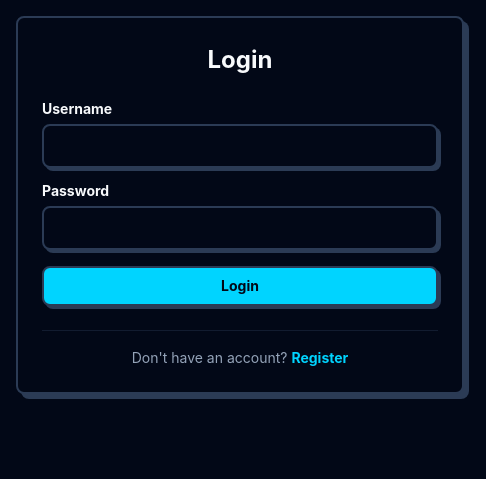
Scenario: LoginPage › renders backend error using ErrorMessage when login fails
In the field with test id "username-input": {"x": 240, "y": 146} [42,124,438,168], type "wronguser"
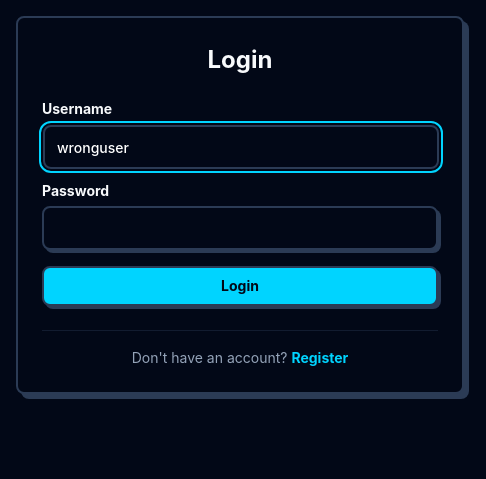
In the password field with test id "password-input": {"x": 240, "y": 228} [42,206,438,250], type "wrongpassword"
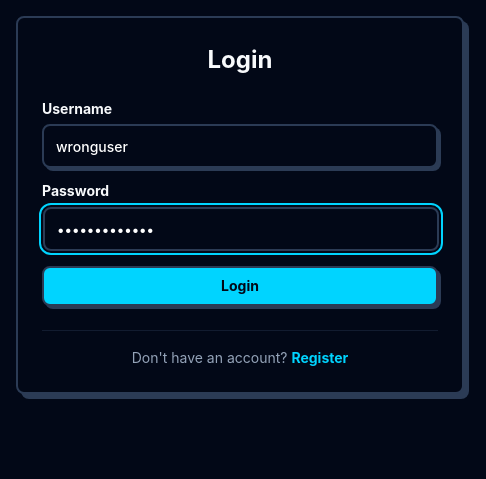
Click the button with test id "login-submit": {"x": 240, "y": 286} [42,266,438,306]
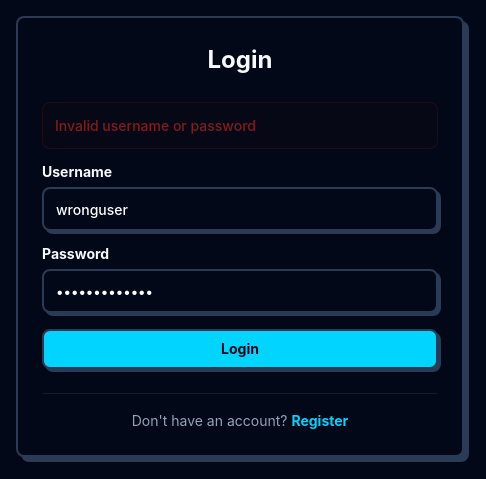
Now the message "Invalid username or password" is shown, box [42,102,438,149]
Now the message with test id "error-message" reads "Invalid username or password", box [55,117,256,134]
